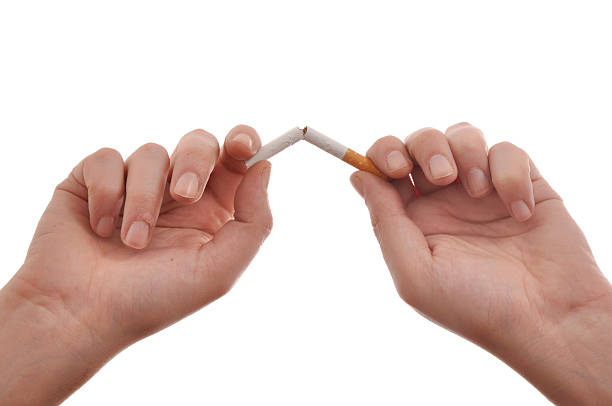cigarette: (301, 121, 390, 181), (244, 126, 305, 170)
